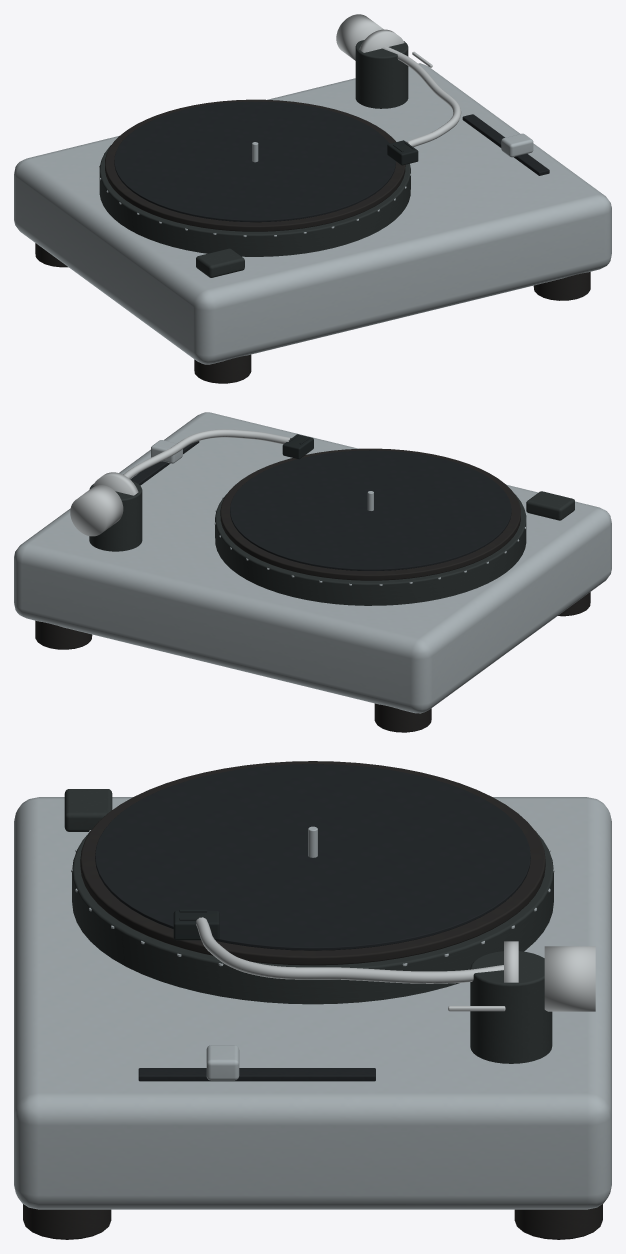
File: turntable.glb
The picture shows the model from 3 angles, top to bottom: view 1: azimuth 30°, elevation 25°; view 2: azimuth 150°, elevation 25°; view 3: azimuth 270°, elevation 25°; orthographic projection. The views are drawn at different scales.
Visible parts, largest first — view 1: Satin galvanized steel, Black molded polymer, Charcoal fine-textured powdercoat, Black felt floor glides, Machined tonearm aluminium, Tonearm rubber and cartridge; view 2: Satin galvanized steel, Black molded polymer, Charcoal fine-textured powdercoat, Black felt floor glides, Machined tonearm aluminium, Tonearm rubber and cartridge; view 3: Satin galvanized steel, Black molded polymer, Charcoal fine-textured powdercoat, Black felt floor glides, Machined tonearm aluminium, Tonearm rubber and cartridge.
Boxes of the visible parts, box(x1,y1,x2,y2) form: Satin galvanized steel: box(14, 63, 611, 364); Black molded polymer: box(114, 101, 549, 222); Charcoal fine-textured powdercoat: box(99, 40, 410, 277); Black felt floor glides: box(35, 99, 590, 383); Machined tonearm aluminium: box(336, 14, 461, 147); Tonearm rubber and cartridge: box(387, 140, 418, 165); Satin galvanized steel: box(14, 412, 611, 713); Black molded polymer: box(130, 441, 511, 570); Charcoal fine-textured powdercoat: box(89, 481, 574, 605); Black felt floor glides: box(35, 448, 590, 732); Machined tonearm aluminium: box(70, 429, 291, 536); Tonearm rubber and cartridge: box(282, 434, 313, 459); Satin galvanized steel: box(14, 797, 611, 1209); Black molded polymer: box(95, 764, 530, 1081); Charcoal fine-textured powdercoat: box(64, 789, 553, 1063); Black felt floor glides: box(23, 761, 602, 1239); Machined tonearm aluminium: box(196, 917, 595, 1011); Tonearm rubber and cartridge: box(173, 909, 219, 940).
Bounding box in the file's own units: 0.454 × 0.168 × 0.365.
Materials: 6 (4 with a texture image).
